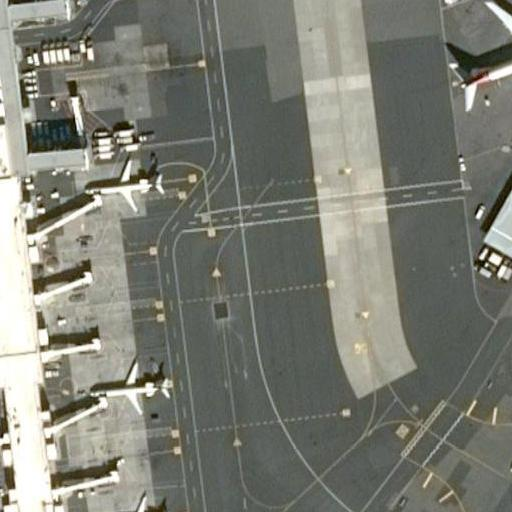Aircraft: (442, 0, 512, 132), (89, 354, 175, 416), (79, 153, 165, 211), (108, 491, 178, 512), (502, 411, 512, 482)
